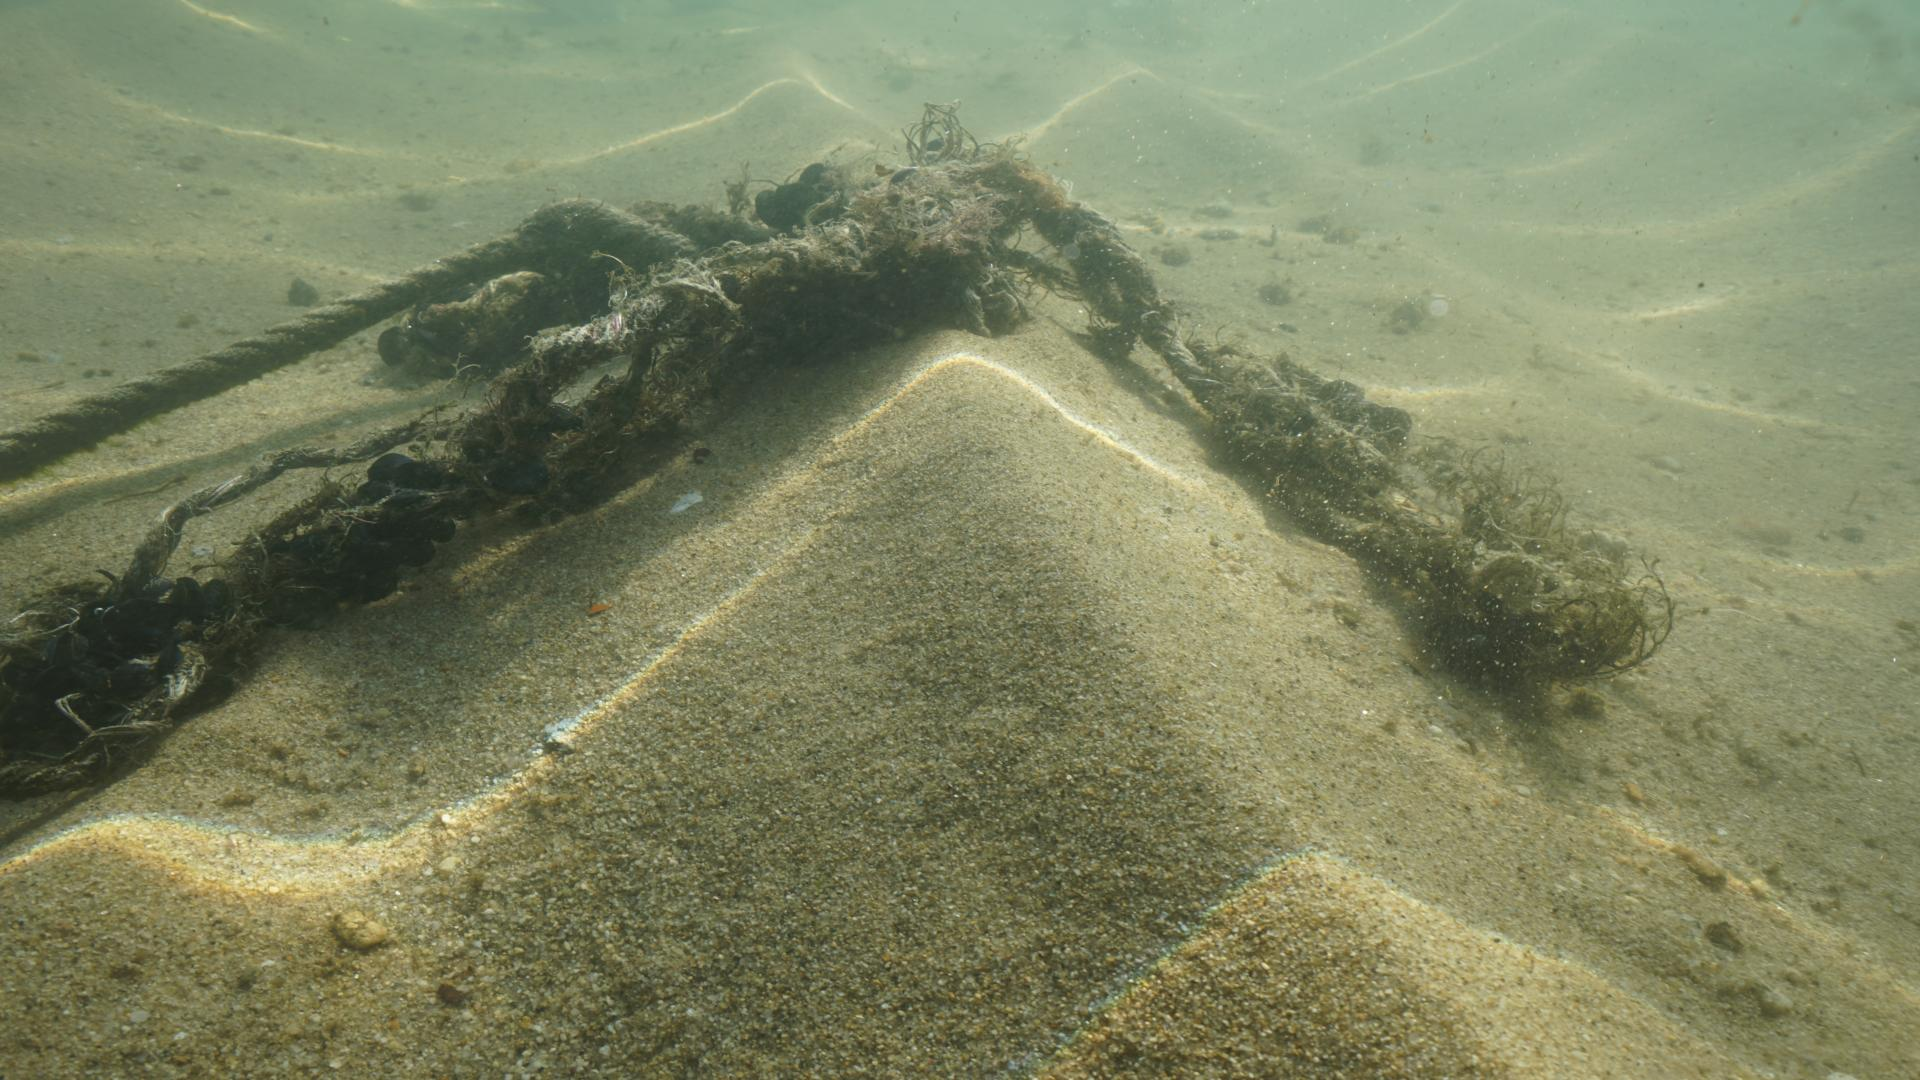rope: (0, 218, 534, 488)
